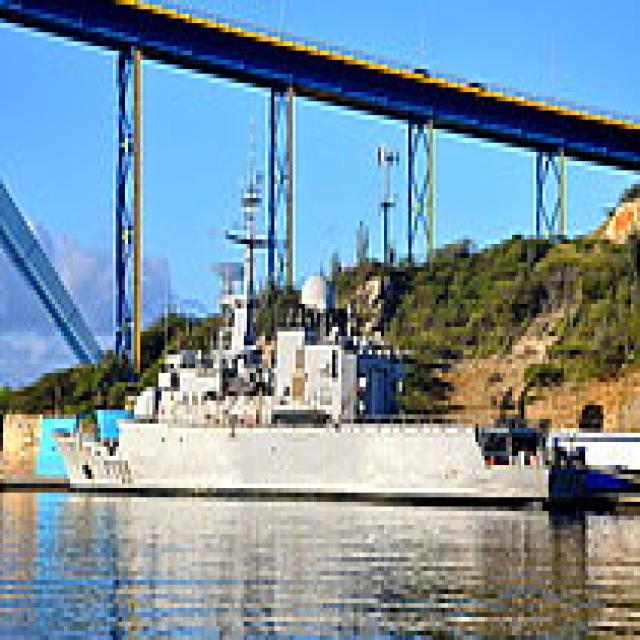Warship: (46, 120, 588, 507)
